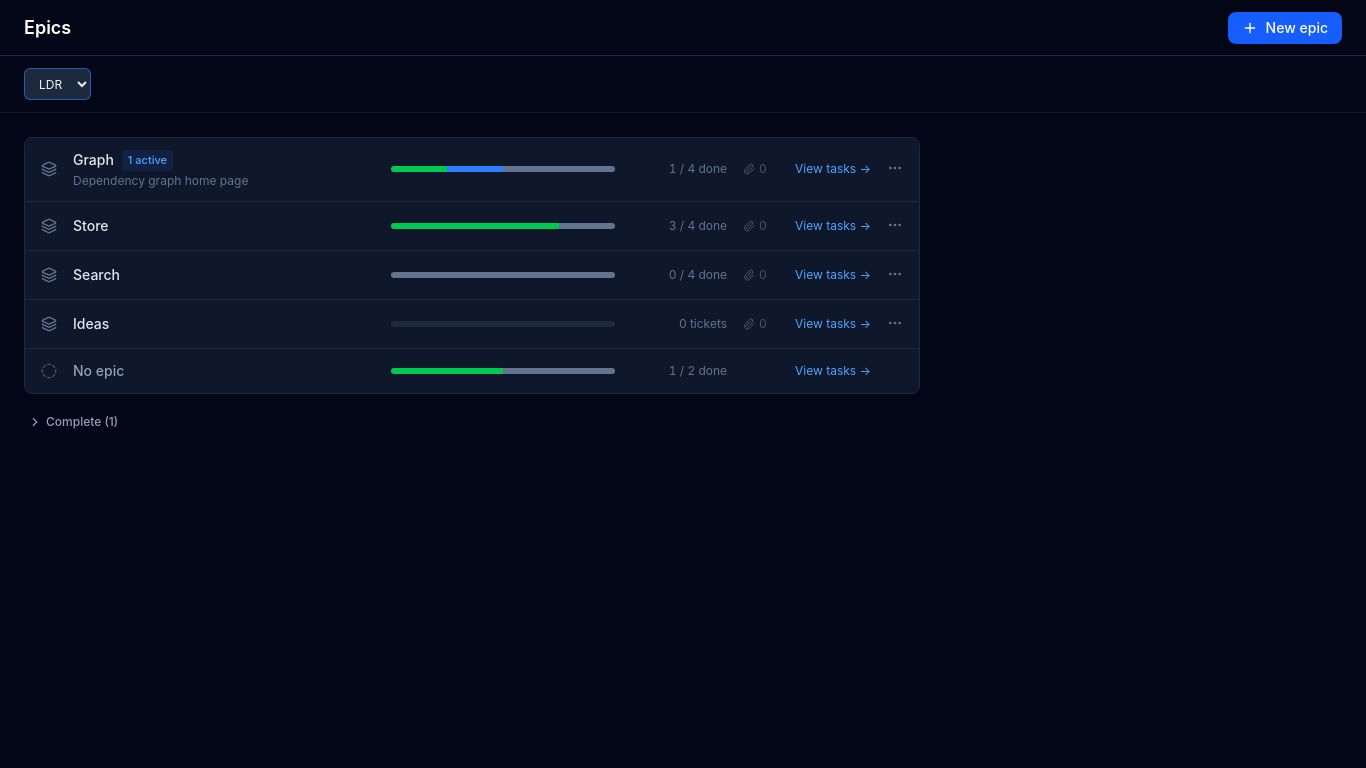
Test: Epics New epic button › is enabled, with no reason, on an active project
What coordinates should you click on to do the following:
click the button "New epic"
I would click on:
 (1285, 28)
Its box is [1228,12,1342,44].
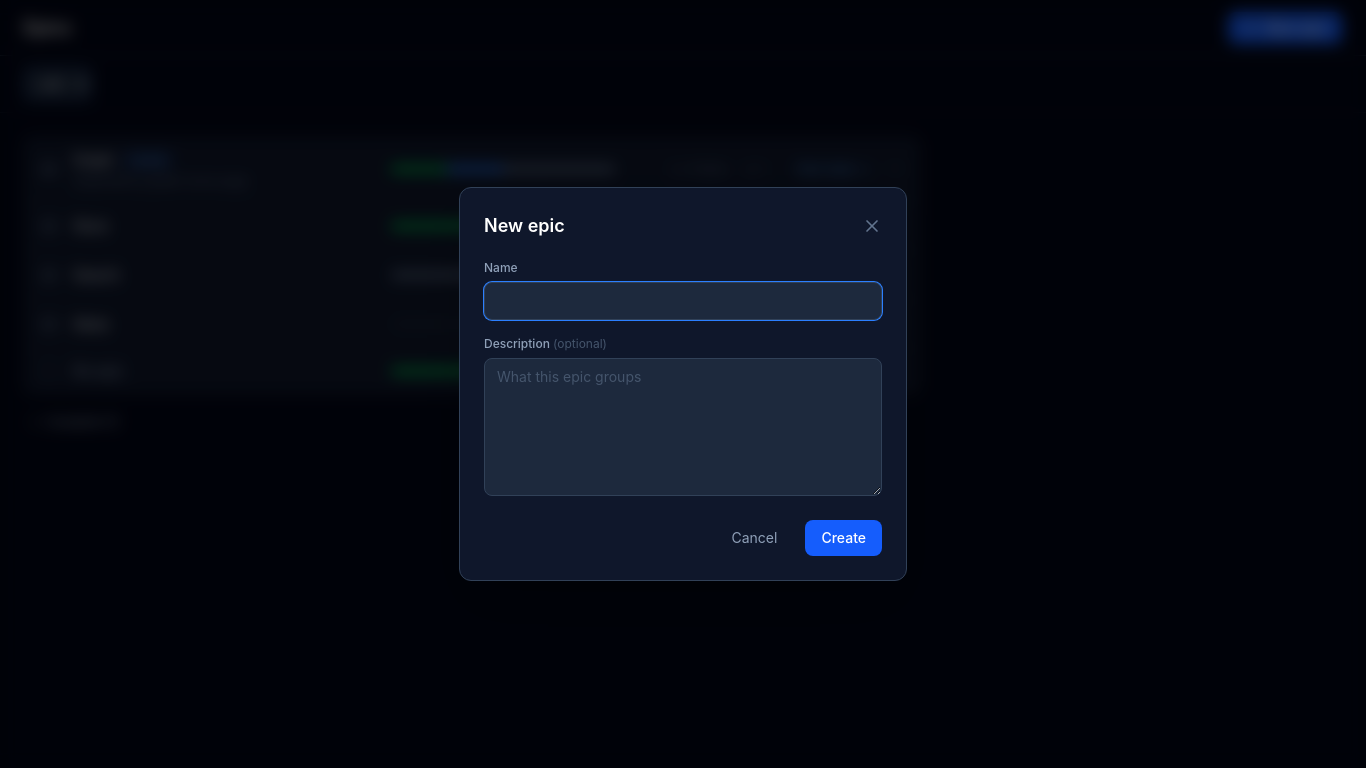
expect the dialog shows "New epic": met, box [484,215,565,236]
